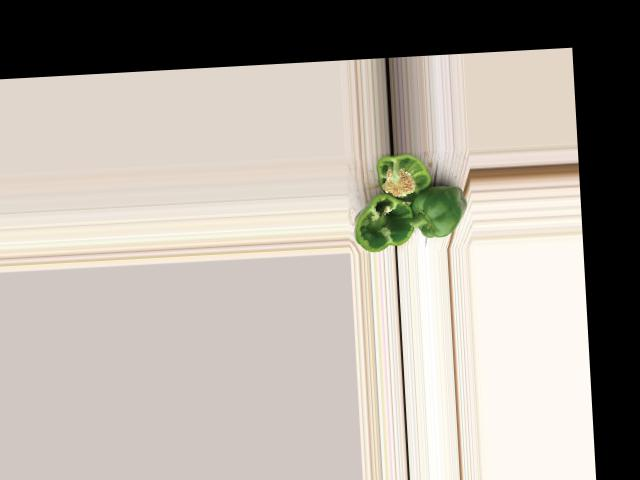bell_pepper: (365, 152, 436, 203)
